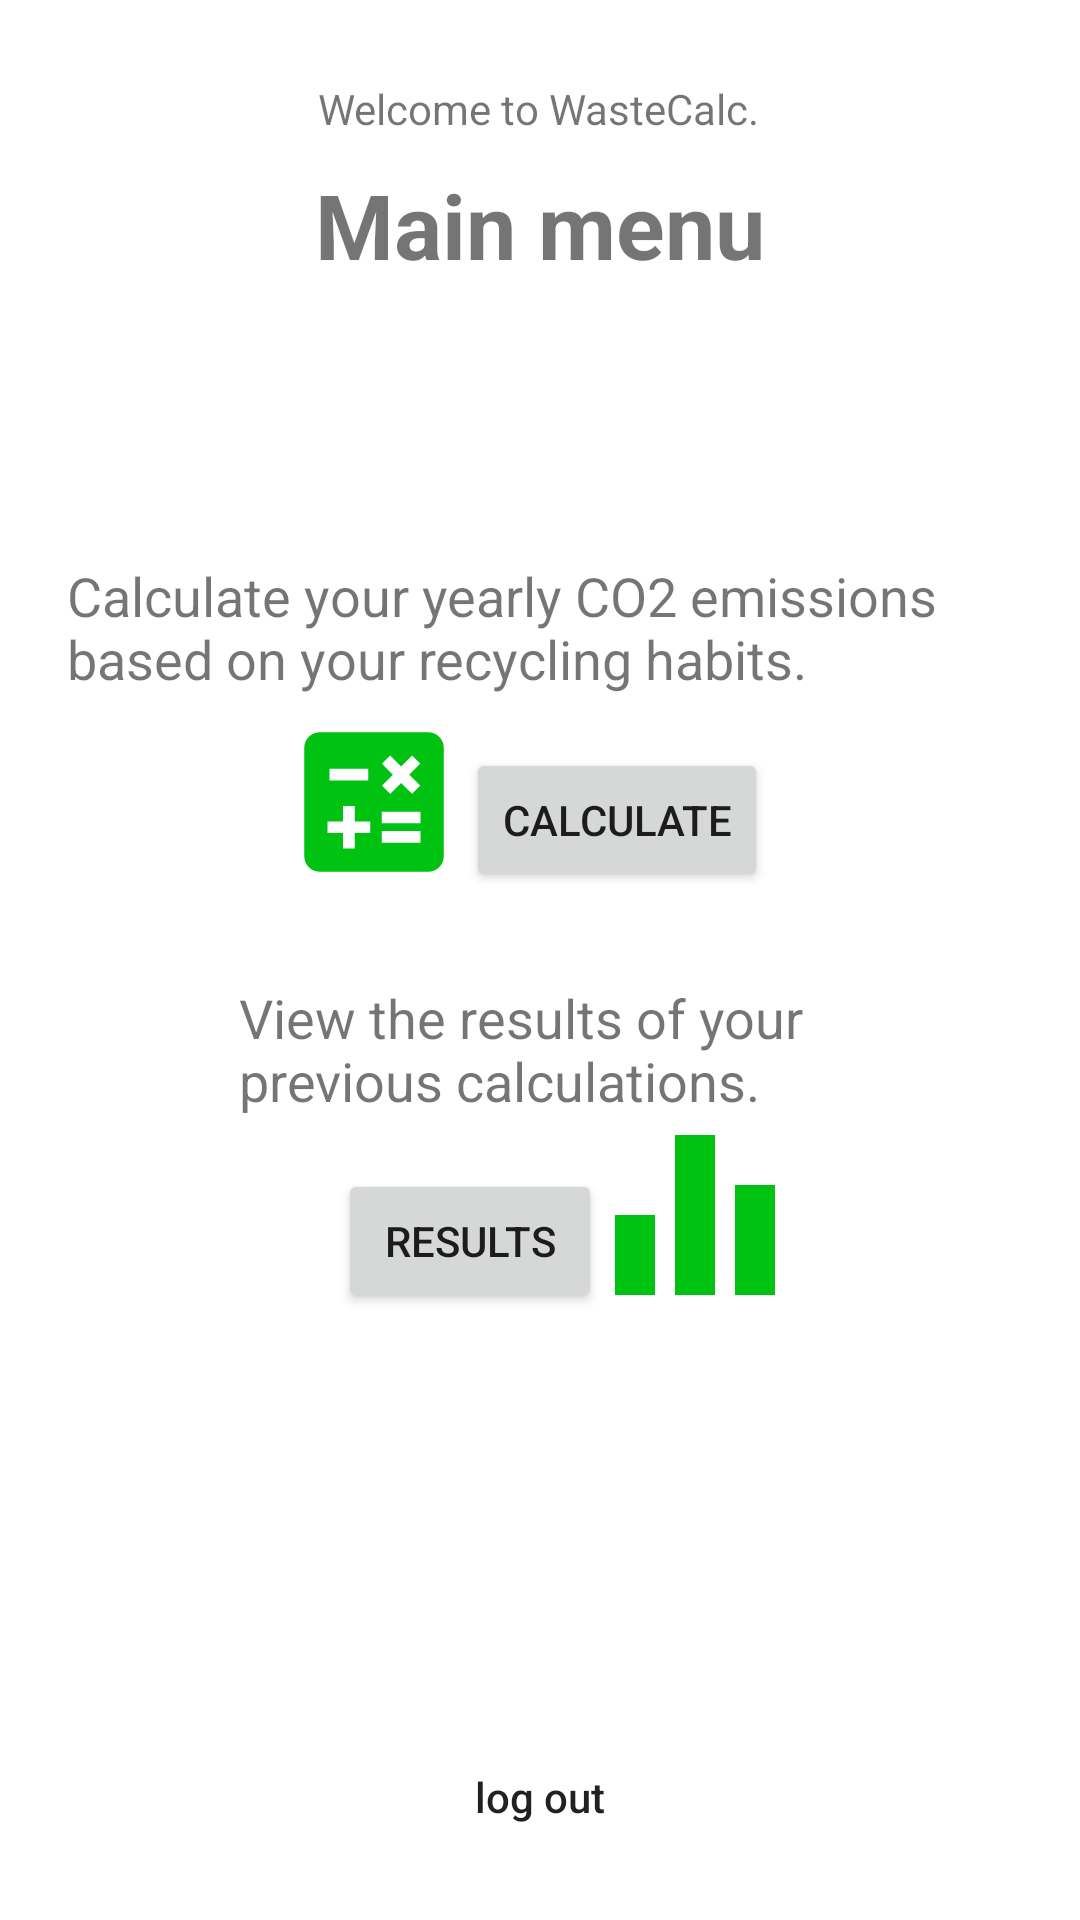

Screen size 1080 × 1920. Icon name, then its center in pixels as (x,y):
equalizer: (687,1183)
